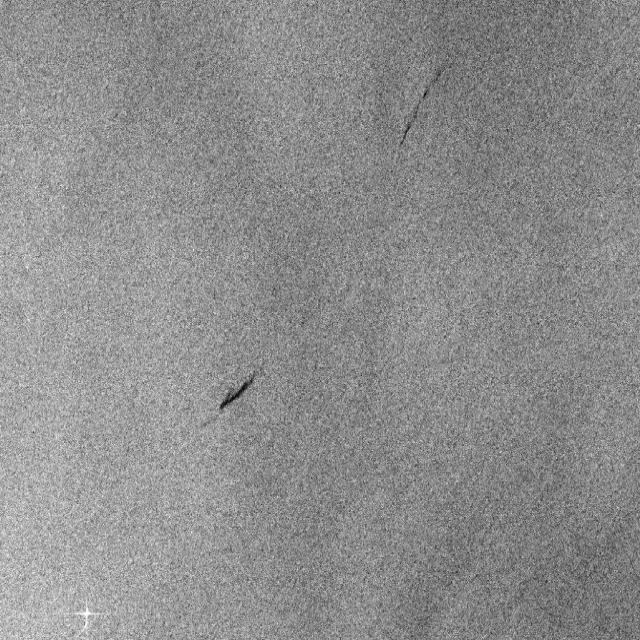oil-spill: (394, 56, 444, 153), (210, 368, 268, 421)
ship: (72, 589, 104, 639)
